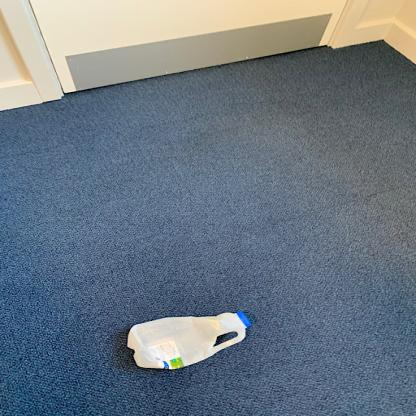trash: (126, 308, 261, 375)
